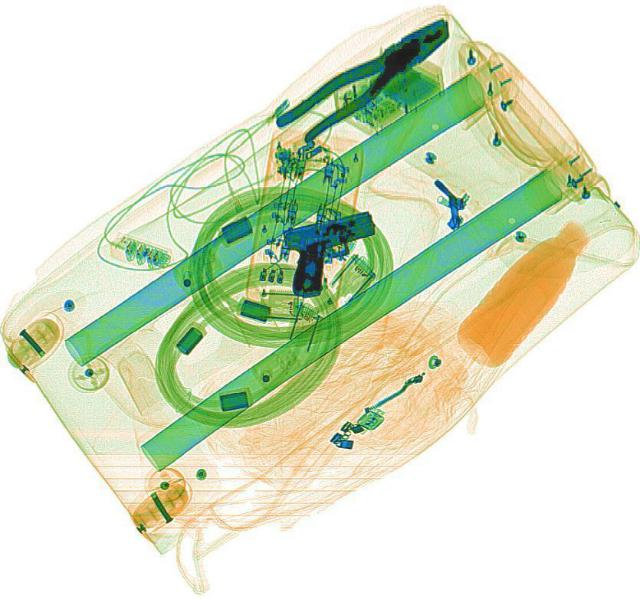Gun: (272, 210, 390, 298)
Pliers: (270, 6, 460, 150)
